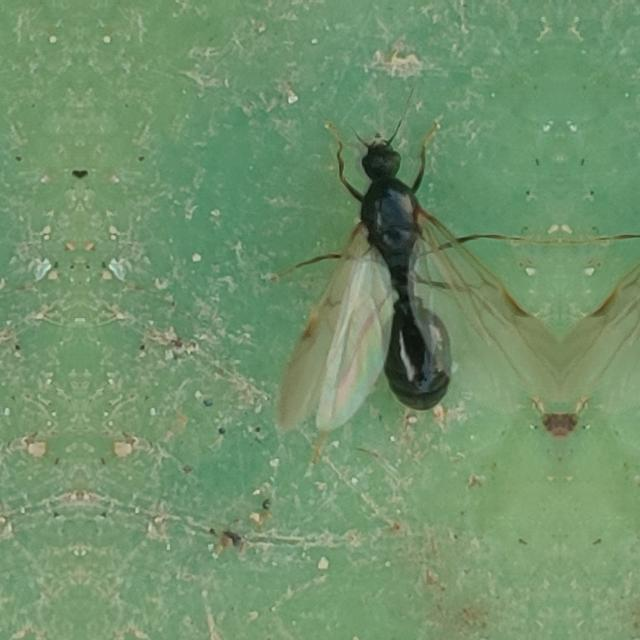Tetramorium: (300, 118, 502, 446)
